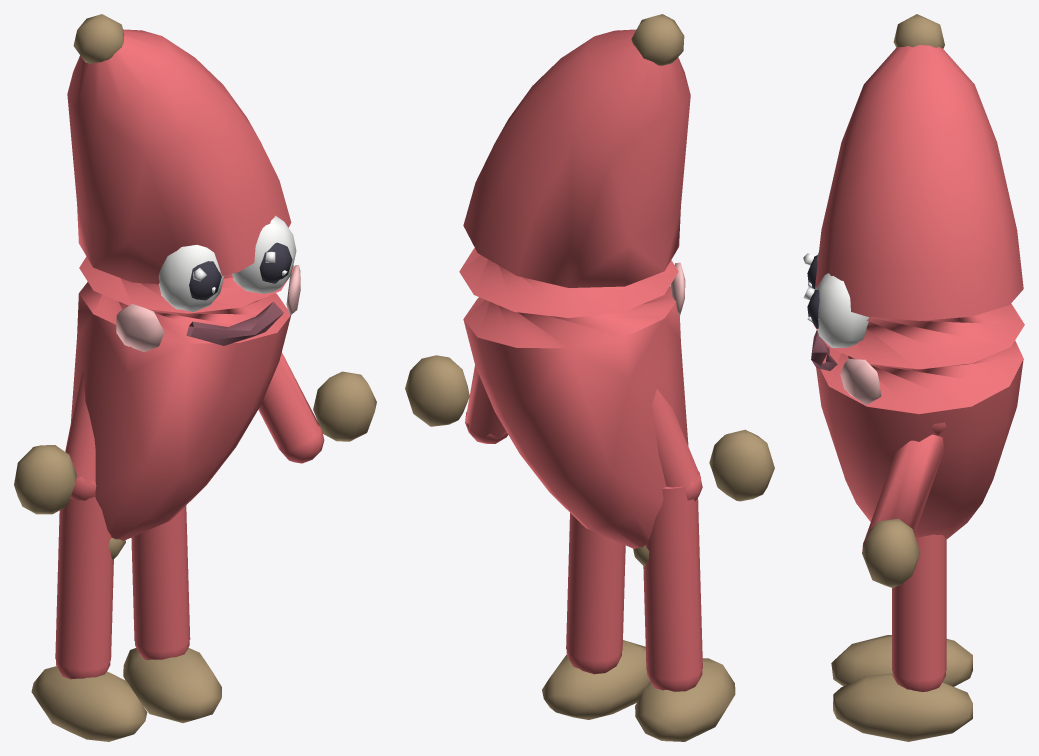
Rendered from Banana.fbx.
The picture shows the model from 3 angles, left to right: view 1: azimuth 30°, elevation 25°; view 2: azimuth 150°, elevation 25°; view 3: azimuth 270°, elevation 25°; orthographic projection. The views are drawn at different scales.
Visible parts, largest first — view 1: EX_Banana; view 2: EX_Banana; view 3: EX_Banana.
Part boxes in pixels (x1,y1,x2,y2): EX_Banana: [14, 14, 376, 741]; EX_Banana: [405, 14, 774, 741]; EX_Banana: [803, 14, 1024, 741].
Size of the model in its own units: 126 by 238 by 69.62.
